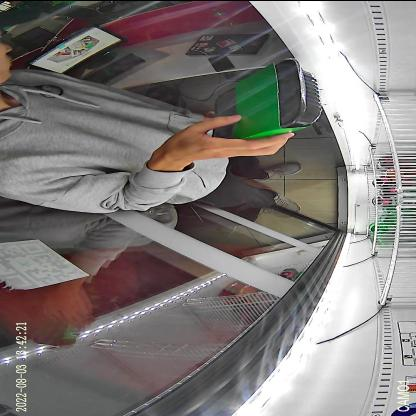green: (212, 58, 324, 140)
